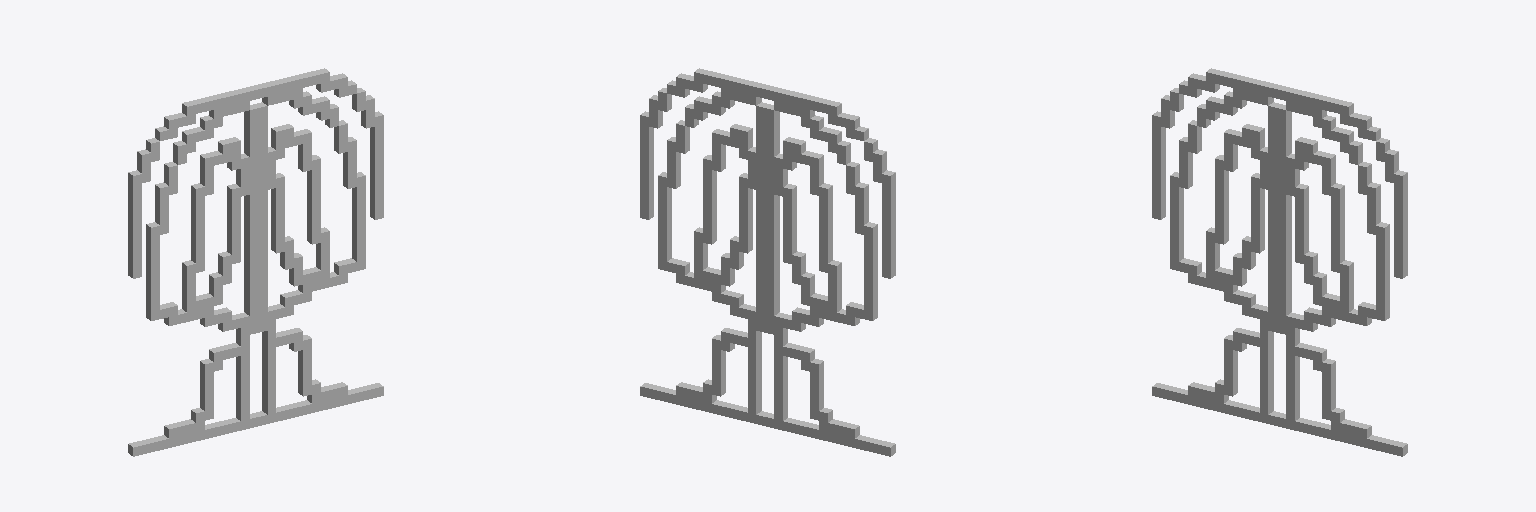
Rendered from tree5.obj.
The picture shows the model from 3 angles: view 1: azimuth 30°, elevation 25°; view 2: azimuth 150°, elevation 25°; view 3: azimuth 330°, elevation 25°; orthographic projection.
Parts seen in each view (by area): view 1: object 1; view 2: object 1; view 3: object 1.
Boxes of the visible parts, x1,y1,x2,y2 form: object 1: [128, 68, 383, 456]; object 1: [640, 68, 895, 456]; object 1: [1152, 68, 1407, 456].
Size of the model in its own units: 2.8 by 3.6 by 0.1.